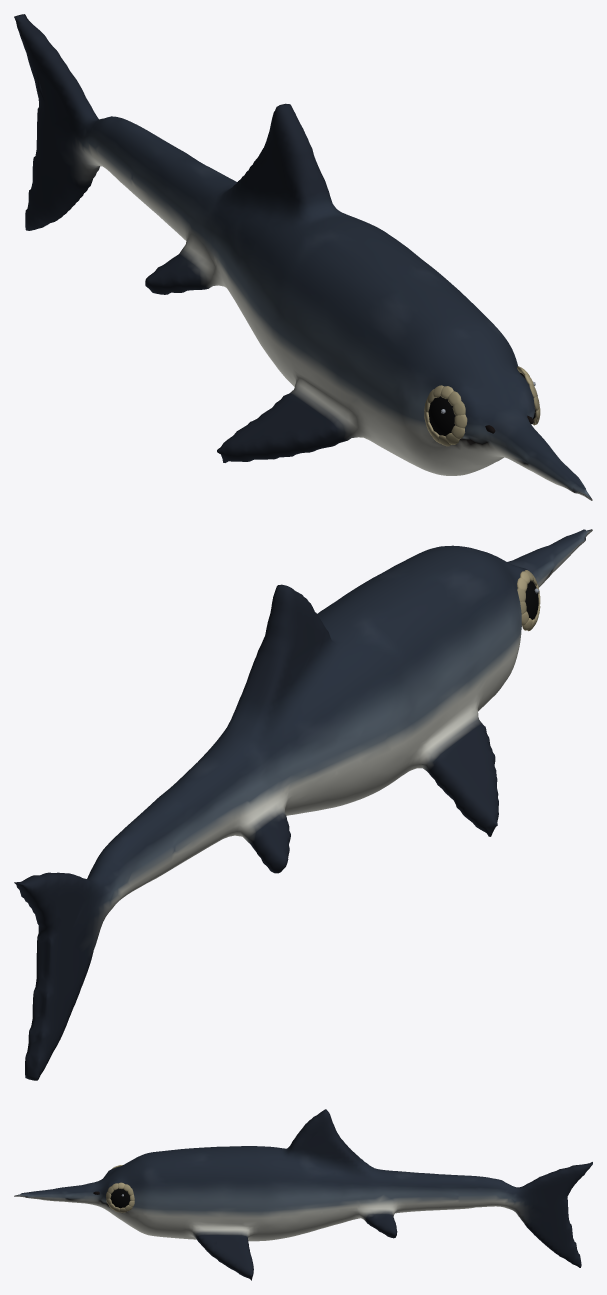
Rendered from Mixosaurus.fbx.
3 views of the same model, one above another, from view 1: azimuth 30°, elevation 25°; view 2: azimuth 150°, elevation 25°; view 3: azimuth 270°, elevation 25° (orthographic). The views are drawn at different scales.
Visible parts, largest first — view 1: Mixosaurus; view 2: Mixosaurus; view 3: Mixosaurus.
Part boxes in pixels (x1,y1,x2,y2): Mixosaurus: (14, 14, 592, 500); Mixosaurus: (14, 529, 592, 1080); Mixosaurus: (14, 1109, 592, 1280).
Size of the model in its own units: 0.5177 by 0.5464 by 1.83.
